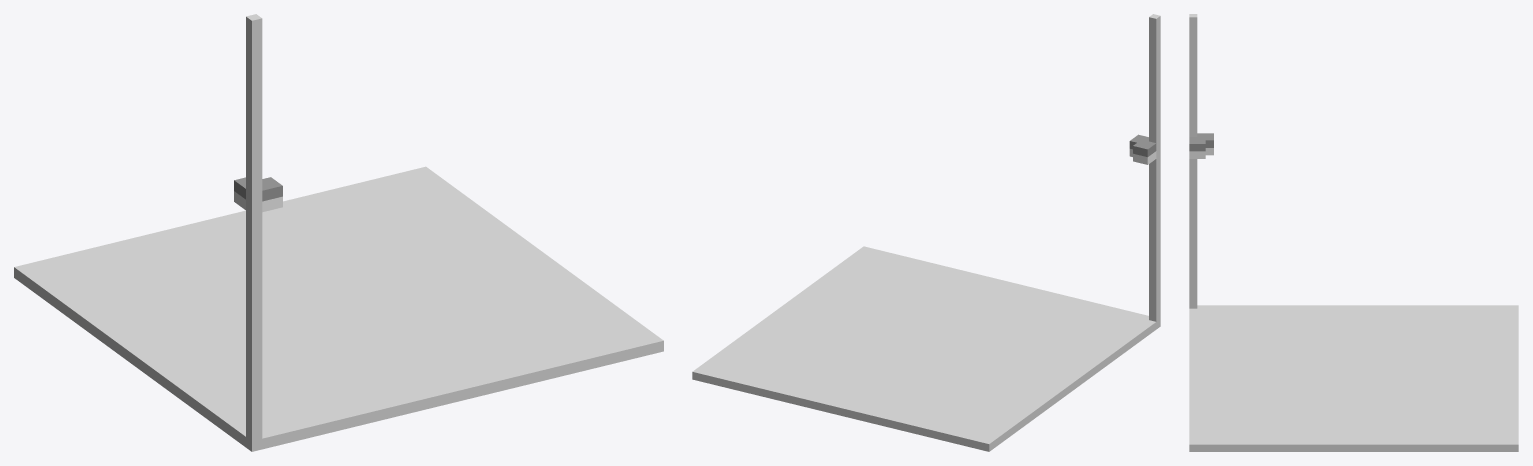
Rendered from Inversed_corner_light.obj.
The picture shows the model from 3 angles, left to right: view 1: azimuth 30°, elevation 25°; view 2: azimuth 150°, elevation 25°; view 3: azimuth 270°, elevation 25°; orthographic projection. The views are drawn at different scales.
Size of the model in its own units: 4 by 4 by 4.
Materials: 1 (1 with a texture image).
